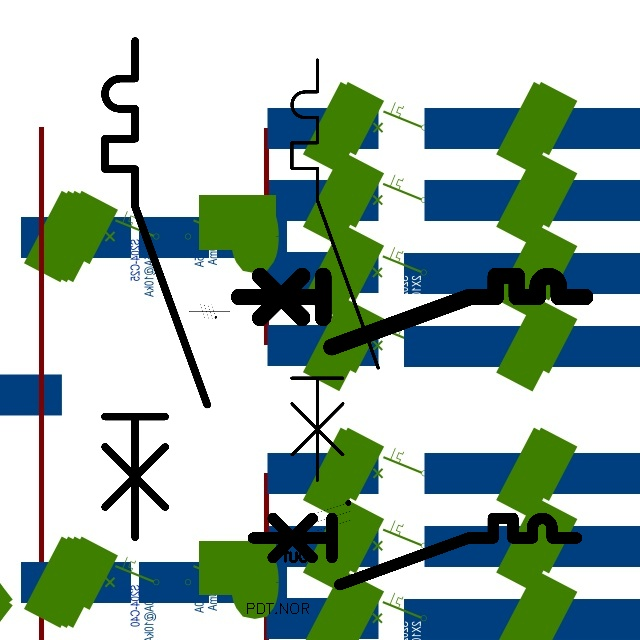interruptor_termomagnetico: (92, 28, 220, 550), (281, 49, 389, 491), (230, 267, 594, 356), (245, 510, 585, 593)
